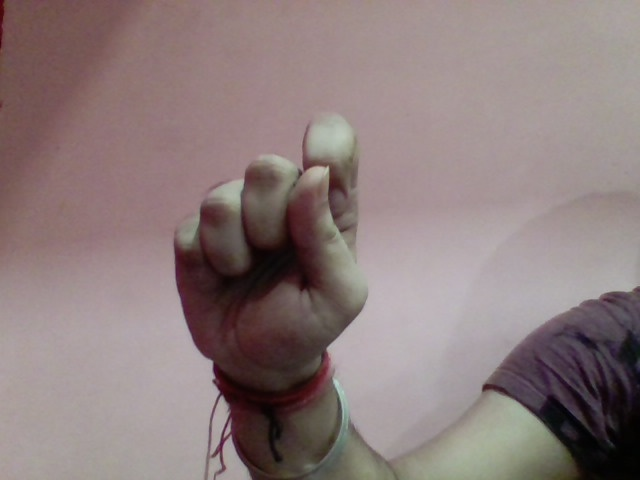t: (162, 96, 389, 369)
